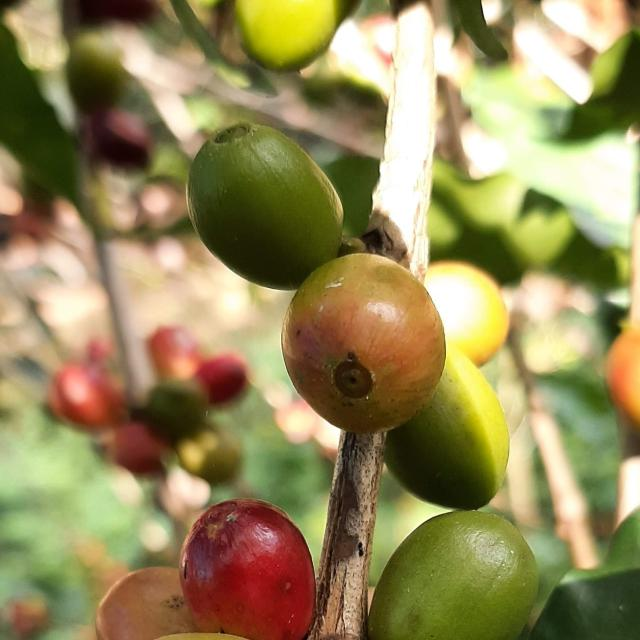green: (186, 124, 343, 290), (369, 512, 539, 640), (385, 346, 510, 511), (235, 0, 337, 70)
yellow: (282, 254, 446, 434), (180, 500, 316, 640), (425, 261, 510, 366), (95, 568, 198, 640)
